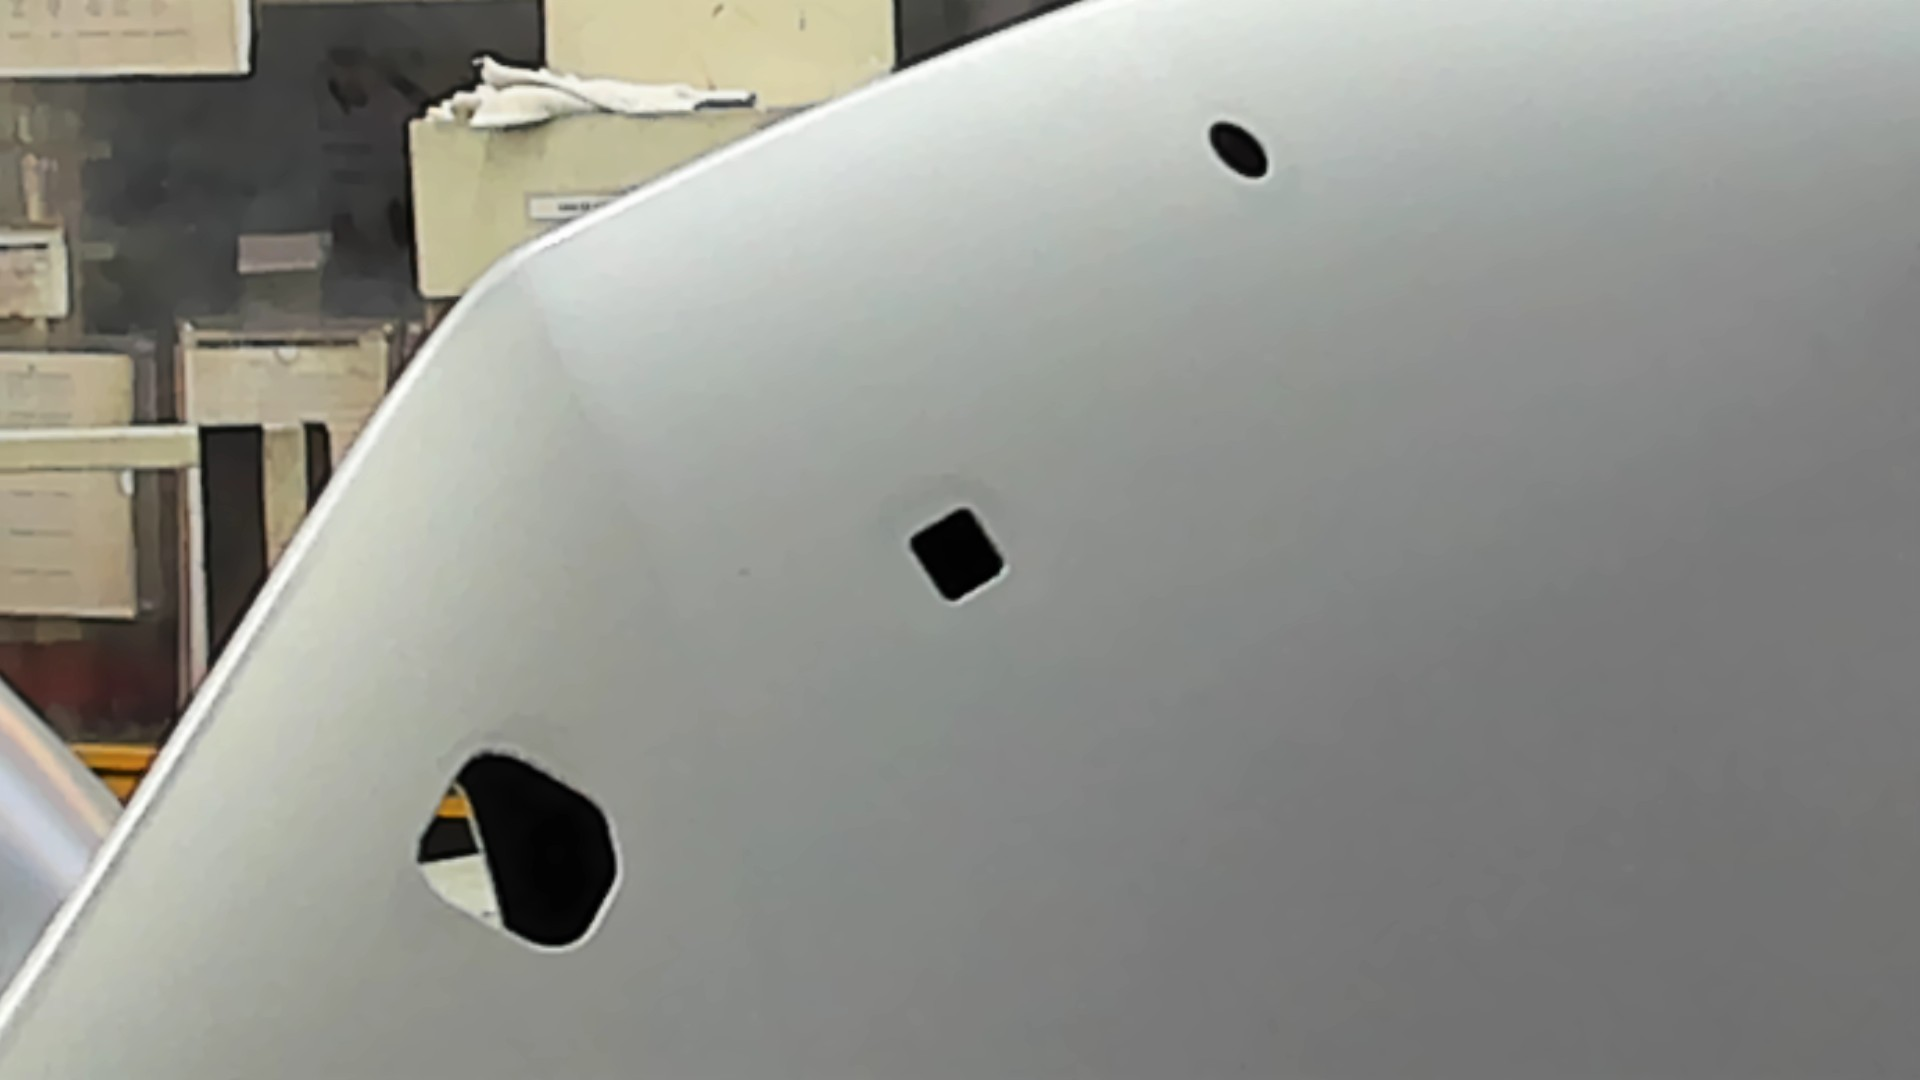chico: (1205, 115, 1270, 182)
grande: (407, 744, 626, 959)
mediano: (895, 500, 1015, 611)
